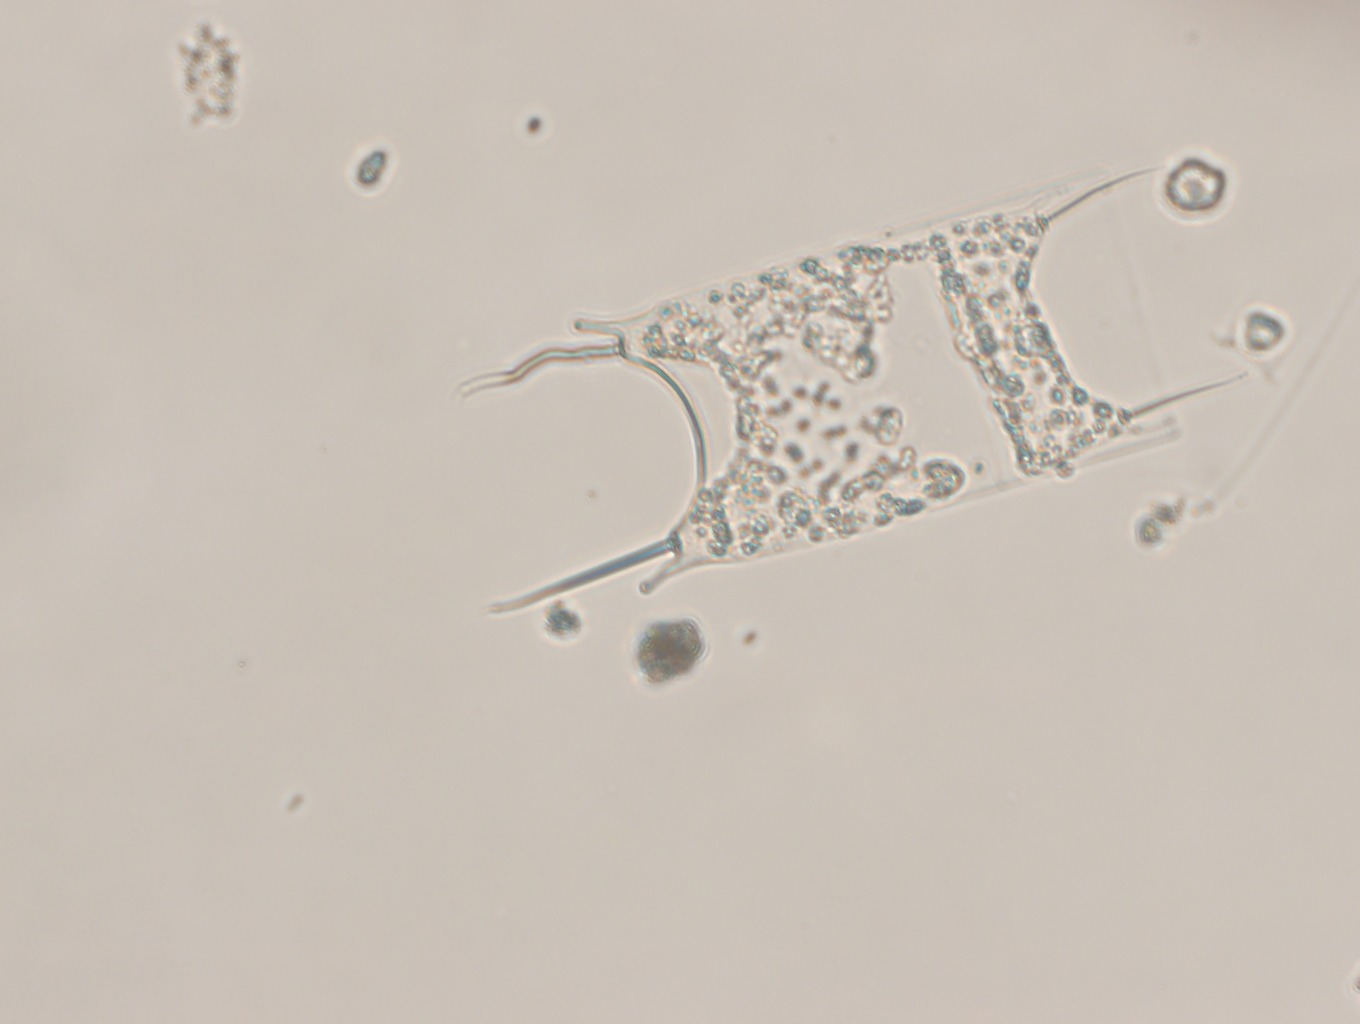biddulphia: (452, 157, 1257, 618)
